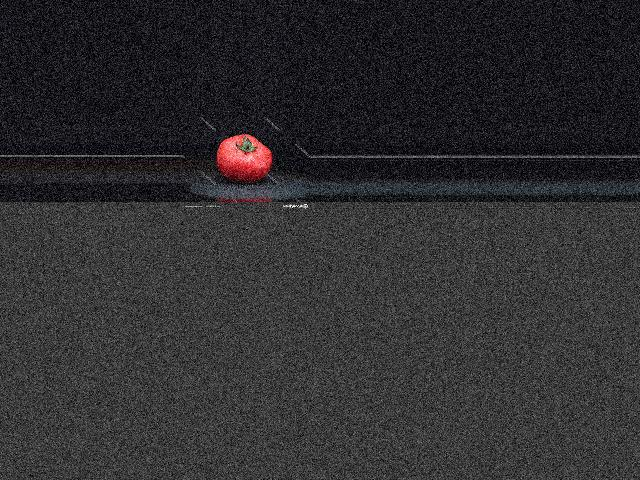tomato: (215, 133, 272, 182)
